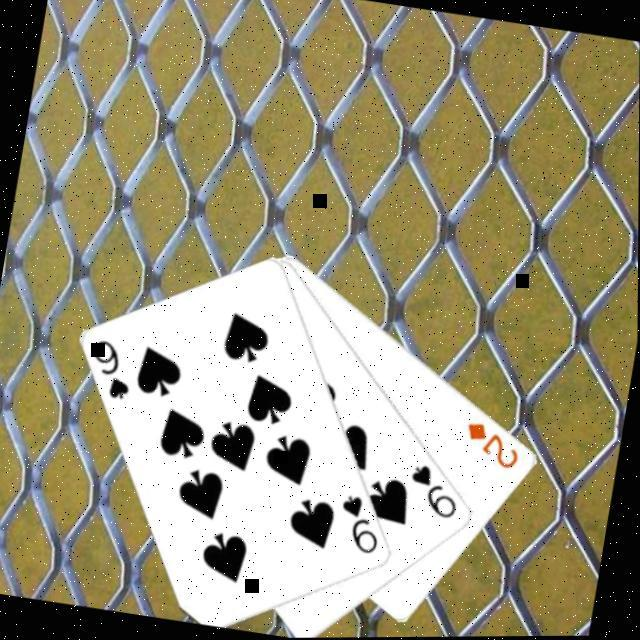2D: (457, 419, 526, 476)
9S: (401, 461, 465, 525), (330, 492, 387, 561), (82, 337, 139, 406)
